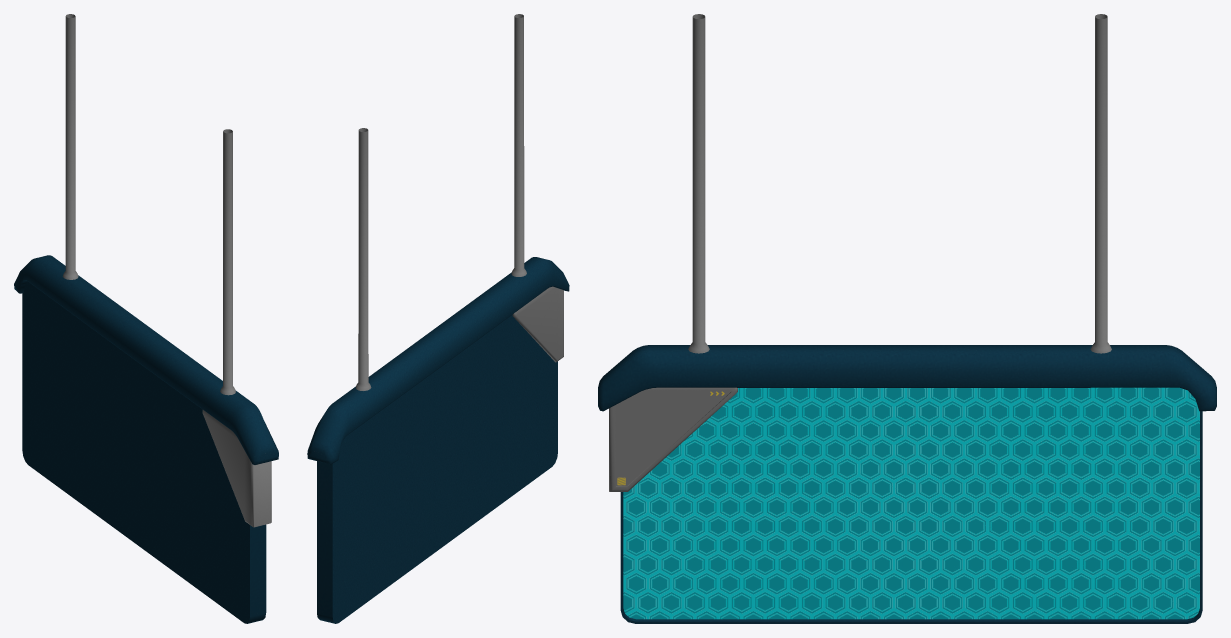
Rendered from PantallaTurnos.fbx.
3 views of the same model, side by side, from view 1: azimuth 30°, elevation 25°; view 2: azimuth 150°, elevation 25°; view 3: azimuth 270°, elevation 25° (orthographic). The views are drawn at different scales.
Parts seen in each view (by area): view 1: PantallaTurno; view 2: PantallaTurno; view 3: PantallaTurno.
Boxes of the visible parts, <box> form: PantallaTurno: <box>14,14,278,623</box>; PantallaTurno: <box>307,14,569,623</box>; PantallaTurno: <box>598,14,1216,623</box>.
Size of the model in its own units: 3.81 by 64.5 by 60.01.
